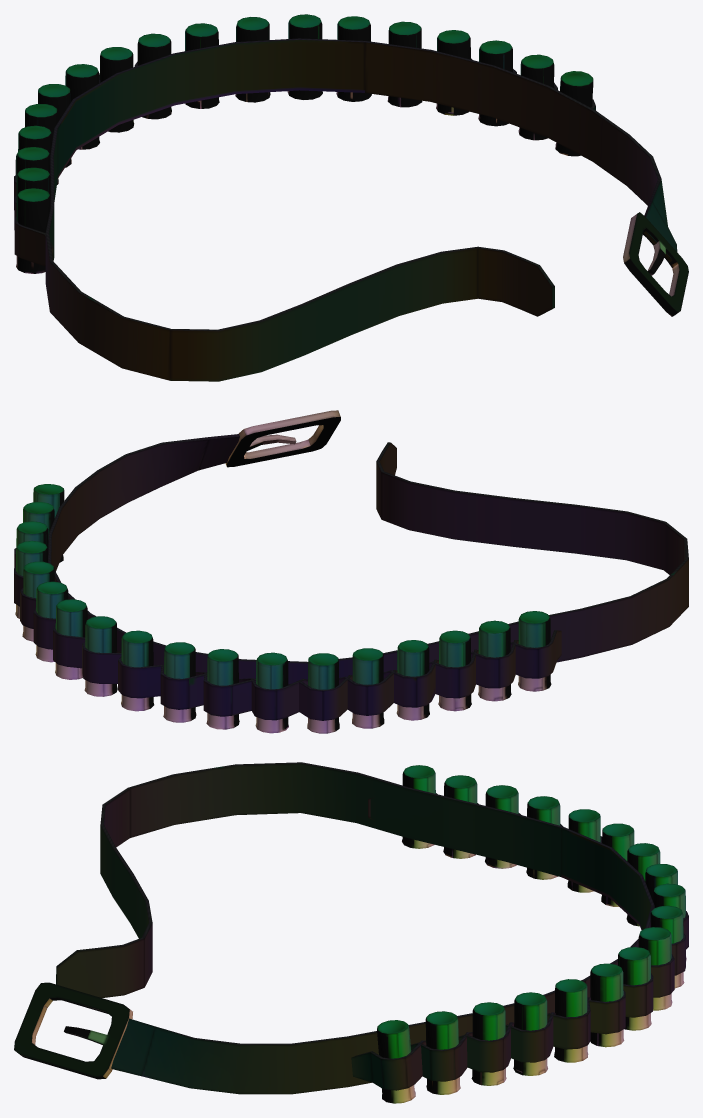
The model's file is Shells_Belt.fbx.
The picture shows the model from 3 angles, top to bottom: view 1: azimuth 30°, elevation 25°; view 2: azimuth 150°, elevation 25°; view 3: azimuth 270°, elevation 25°; orthographic projection. The views are drawn at different scales.
Visible parts, largest first — view 1: Line005; view 2: Line005; view 3: Line005.
Part boxes in pixels (x1,y1,x2,y2): Line005: [14, 14, 688, 381]; Line005: [14, 410, 688, 733]; Line005: [14, 762, 688, 1103].
Bounding box in the file's own units: 1.97 × 1.98 × 0.2489.
Materials: 1 (1 with a texture image).
